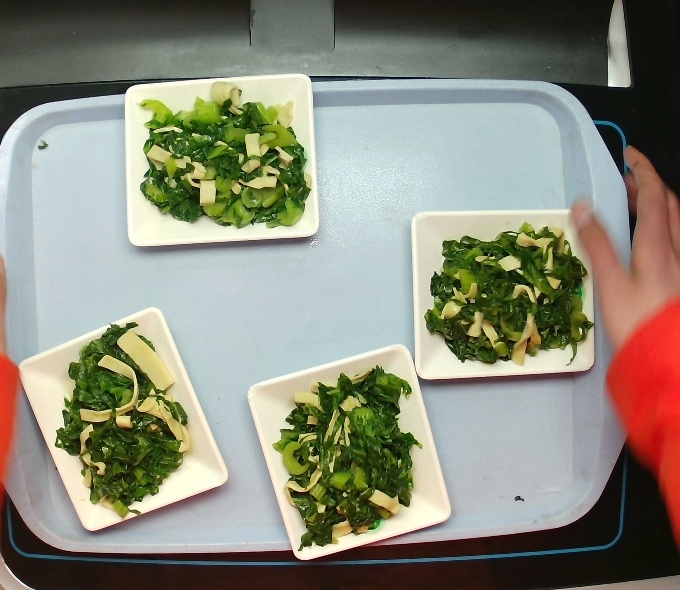wcq-QingCaiChaoQianZhang: (38, 314, 199, 529), (272, 349, 432, 563), (132, 81, 317, 242), (421, 211, 599, 369)
